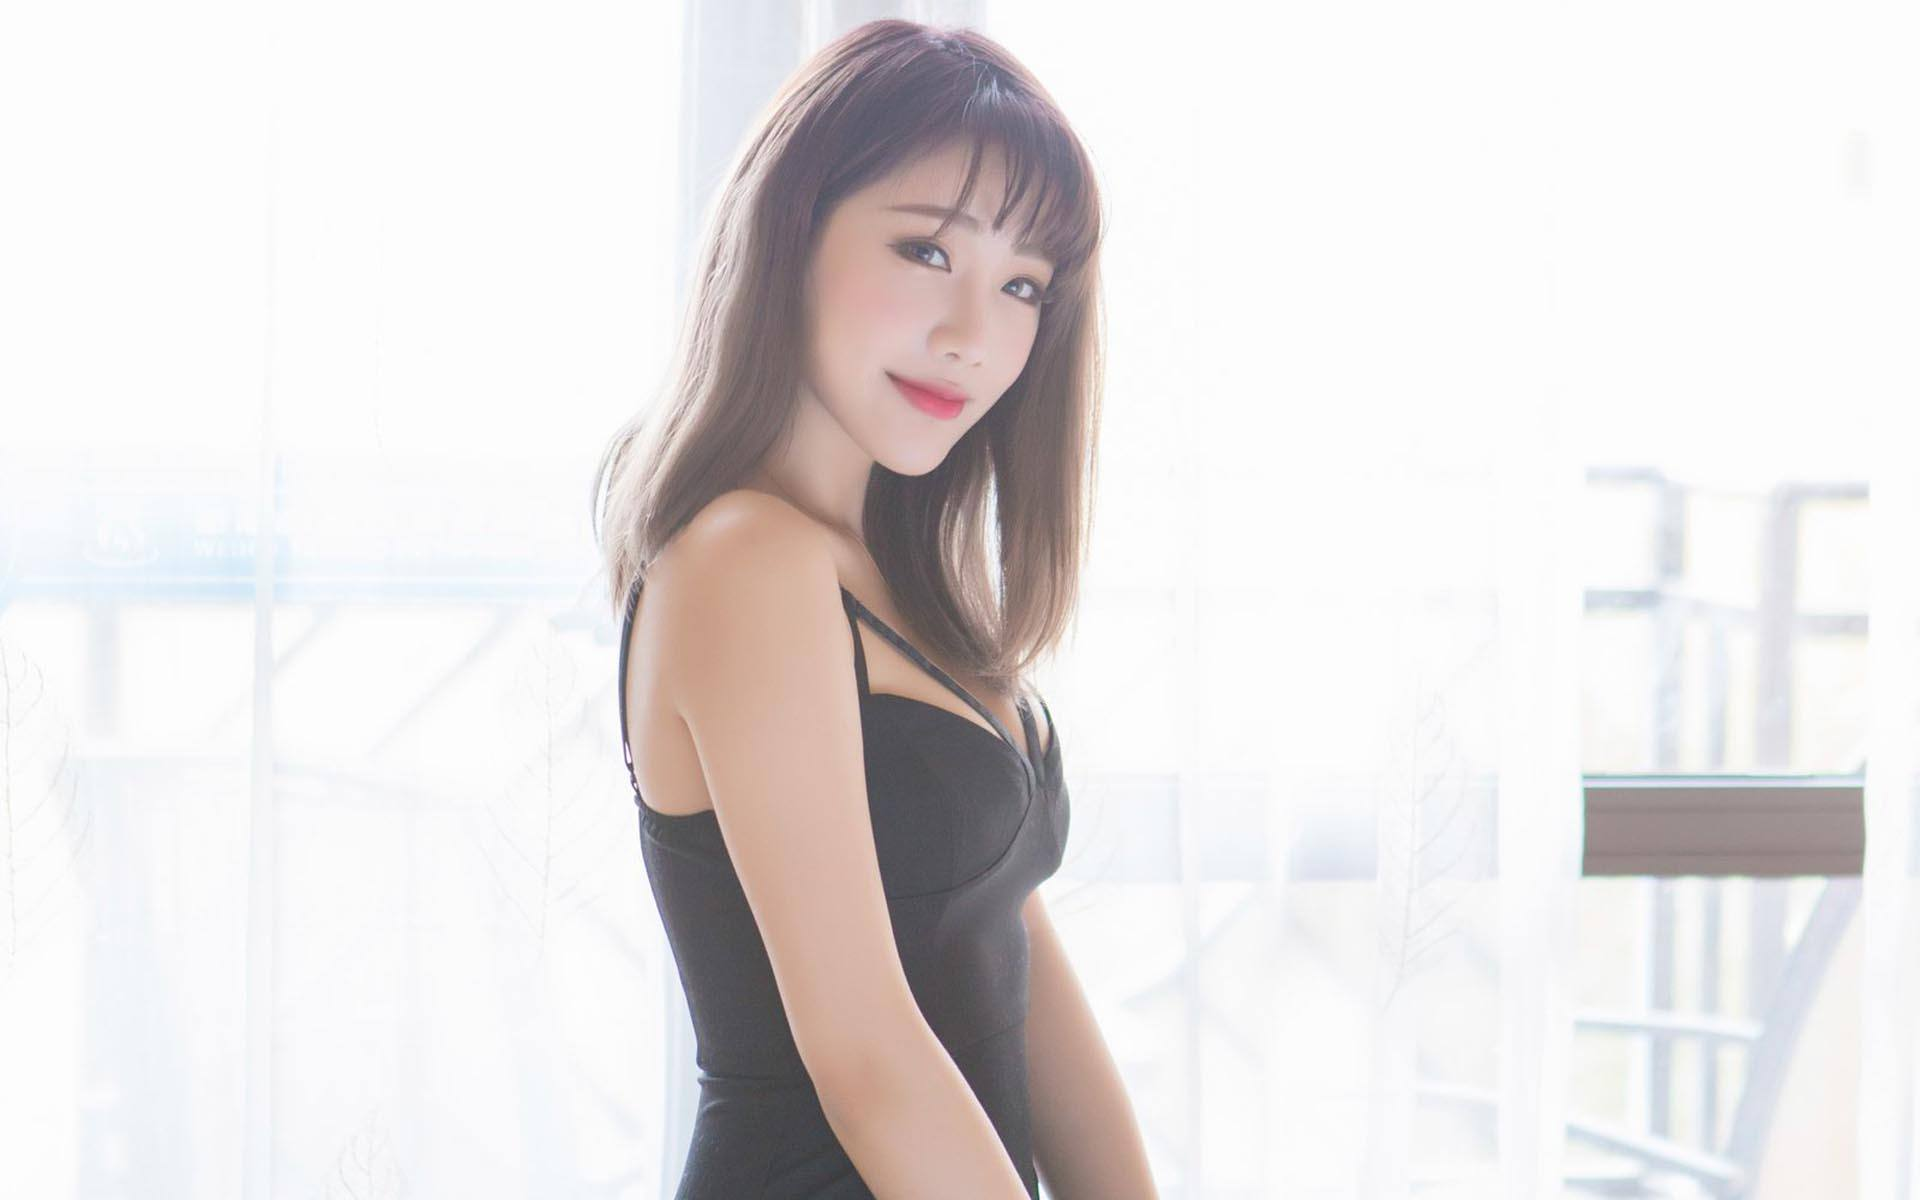person: (563, 37, 1287, 1200)
